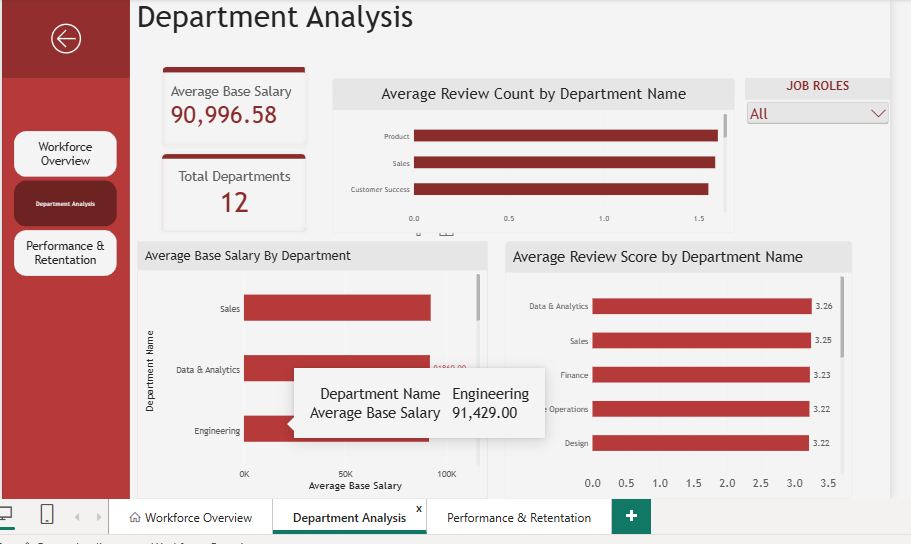

Layout of this report page (visuals, bound fields, positions):
{"tool":"powerbi","page":{"name":"Department Analysis","canvas":[1920,1080],"ordinal":1},"visuals":[{"type":"cardVisual","fields":{"Data":["Employee Snapshot.Average Base Salary"]},"box":[334.8,133.9,332.6,190.1],"z":0},{"type":"clusteredBarChart","title":"Average Base Salary By Department","fields":{"Category":["Employee Snapshot.department_name"],"Y":["Employee Snapshot.Average Base Salary"]},"box":[291.6,522.7,758.2,557.3],"z":1000},{"type":"clusteredBarChart","fields":{"Category":["Employee Snapshot.Department Name"],"Y":["Employee Snapshot.Average Review Score"]},"box":[1086.5,522.7,749.5,557.3],"z":2000},{"type":"clusteredBarChart","title":"Average Review Count by Department Name","fields":{"Category":["Employee Snapshot.Department Name"],"Y":["Avg(Employee Snapshot.review_count)"]},"box":[712.8,170.6,870.5,334.8],"z":3000},{"type":"textbox","title":"Department Analysis","box":[291.6,0,673.9,75.6],"z":4000},{"type":"shape","box":[0,0,276.5,1440.7],"z":5000},{"type":"actionButton","box":[0,0,276.5,170.6],"z":6000},{"type":"bookmarkNavigator","box":[0,0,600,50],"z":7000},{"type":"pageNavigator","box":[25.9,285.1,222.5,315.4],"z":8000},{"type":"slicer","title":"JOB ROLES","fields":{"Values":["Employee Snapshot.role_title"]},"box":[1604.9,170.6,315.4,105.8],"z":9000},{"type":"cardVisual","fields":{"Data":["Employee Snapshot.Total Departments"]},"box":[334.8,324,332.6,190.1],"z":9001}]}

Visuals, with their boxes on the page's 1920x1080 design canvas (x1, y1, x2, y2). These are canvas units, not pixel positions in the 911x544 screenshot, which may show the page scaled, cropped or inside an application window:
cardVisual - Employee Snapshot.Average Base Salary: l=335, t=134, r=667, b=324
"Average Base Salary By Department" clusteredBarChart: l=292, t=523, r=1050, b=1080
clusteredBarChart - Employee Snapshot.Department Name x Employee Snapshot.Average Review Score: l=1086, t=523, r=1836, b=1080
"Average Review Count by Department Name" clusteredBarChart: l=713, t=171, r=1583, b=505
"Department Analysis" textbox: l=292, t=0, r=966, b=76
shape: l=0, t=0, r=276, b=1441
actionButton: l=0, t=0, r=276, b=171
bookmarkNavigator: l=0, t=0, r=600, b=50
pageNavigator: l=26, t=285, r=248, b=600
"JOB ROLES" slicer: l=1605, t=171, r=1920, b=276
cardVisual - Employee Snapshot.Total Departments: l=335, t=324, r=667, b=514
